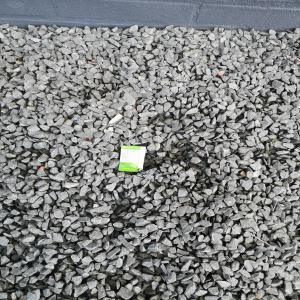Trash: (117, 145, 151, 175)
